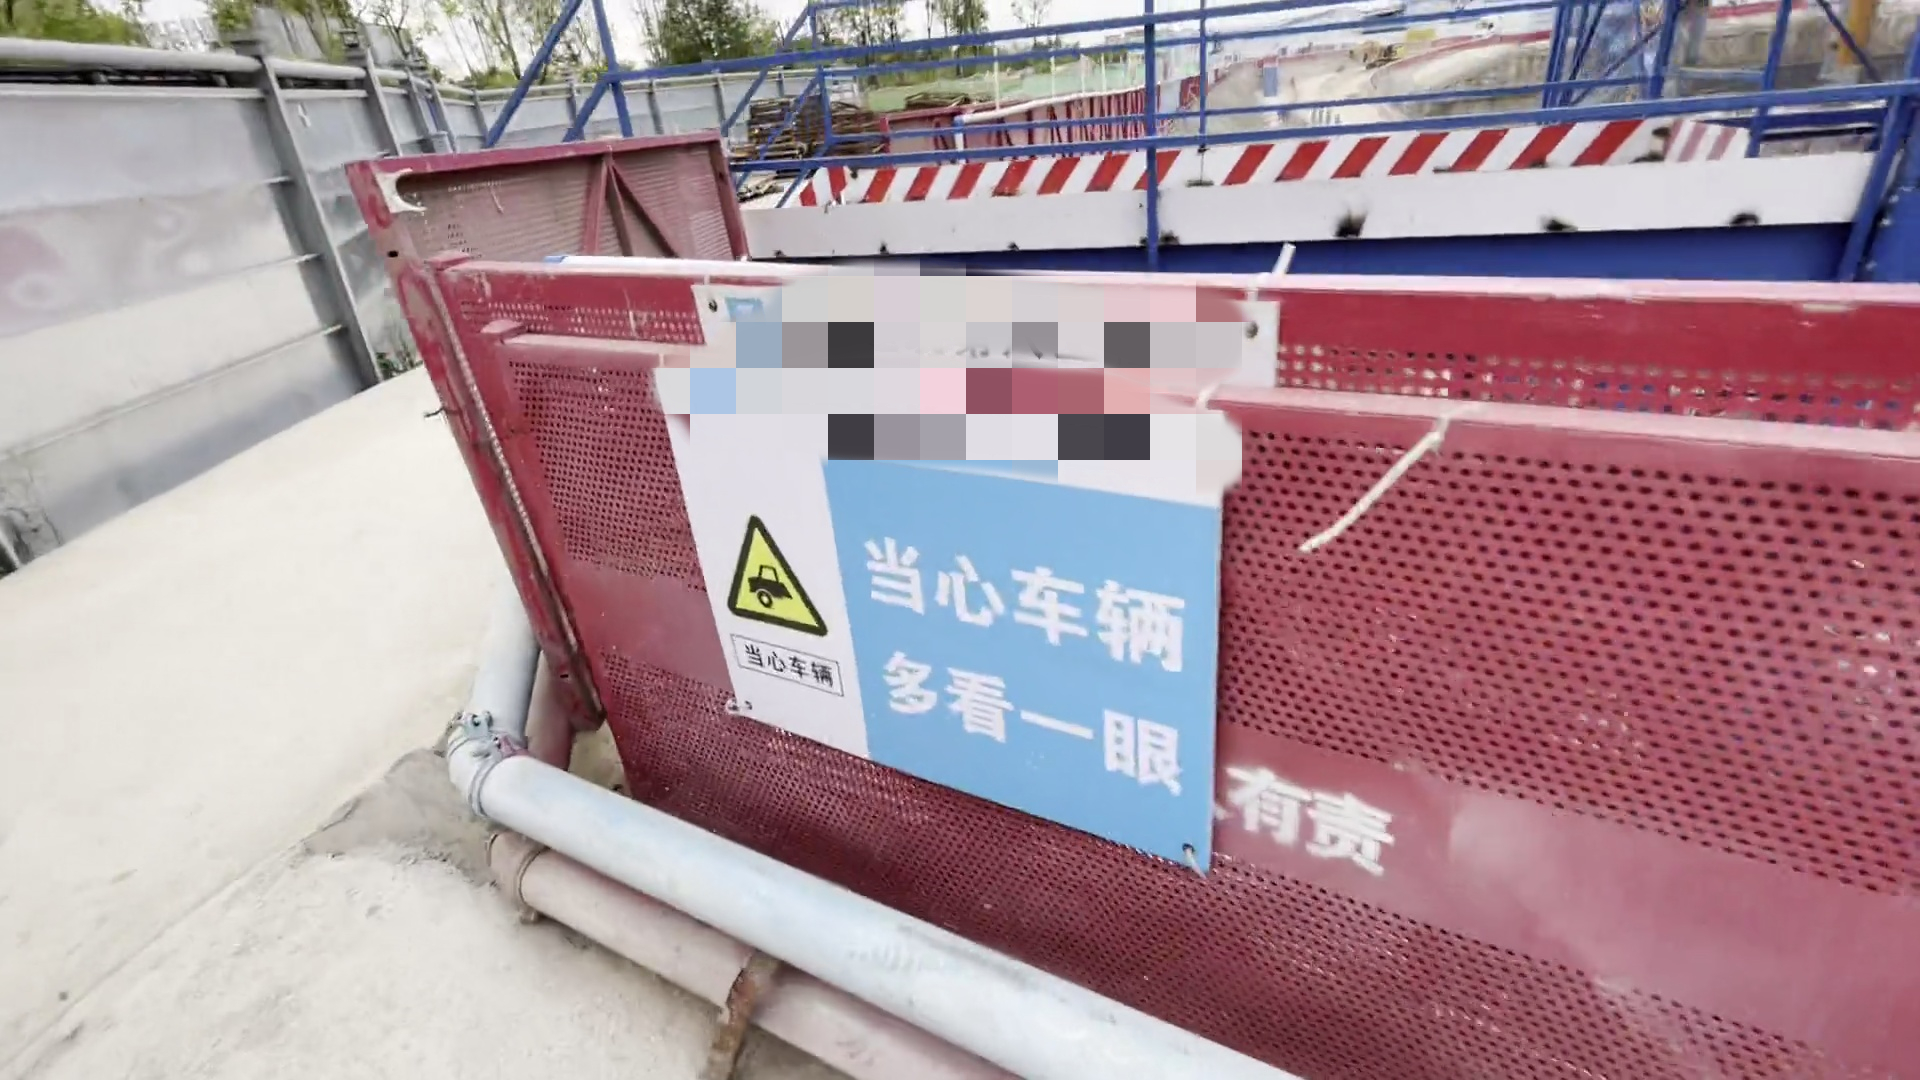fence: (336, 124, 1898, 1060)
slogan: (632, 268, 1261, 909)
